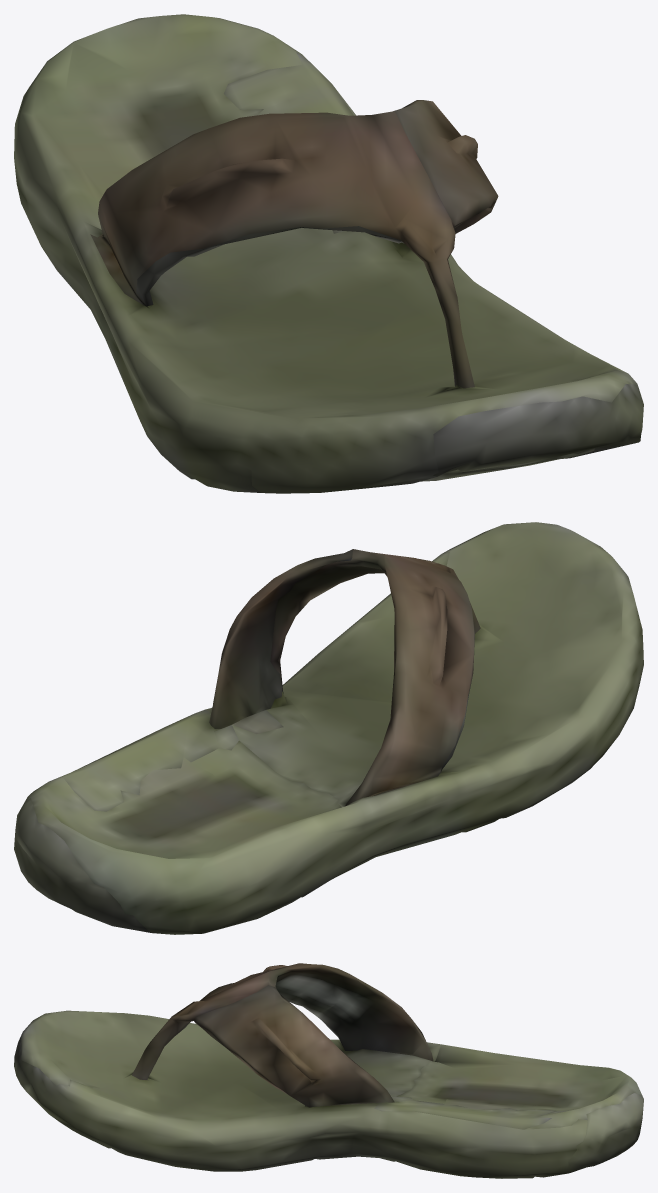
Rendered from Mens_Santa_Cruz_Thong_in_Chocolate_lvxYW7lek6B-medium.glb.
3 renders of one model, top to bottom at view 1: azimuth 30°, elevation 25°; view 2: azimuth 150°, elevation 25°; view 3: azimuth 270°, elevation 25°, orthographic. The views are drawn at different scales.
Visible parts, largest first — view 1: Mens_Santa_Cruz_Thong_in_Chocolate_lvxYW7lek6B; view 2: Mens_Santa_Cruz_Thong_in_Chocolate_lvxYW7lek6B; view 3: Mens_Santa_Cruz_Thong_in_Chocolate_lvxYW7lek6B.
Part boxes in pixels (bbox=[...]): Mens_Santa_Cruz_Thong_in_Chocolate_lvxYW7lek6B: bbox=[14, 14, 643, 493]; Mens_Santa_Cruz_Thong_in_Chocolate_lvxYW7lek6B: bbox=[14, 522, 643, 934]; Mens_Santa_Cruz_Thong_in_Chocolate_lvxYW7lek6B: bbox=[14, 963, 643, 1178].
Size of the model in its own units: 0.1337 by 0.0835 by 0.2915.
1 material, 1 textured.
